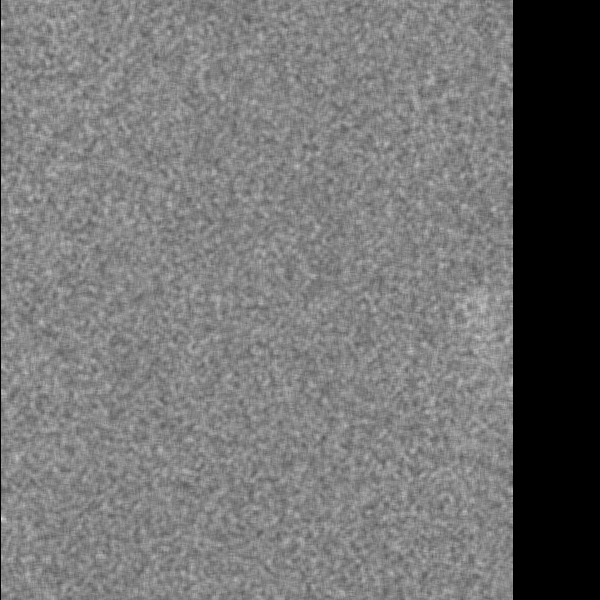spark: (472, 284, 497, 383)
